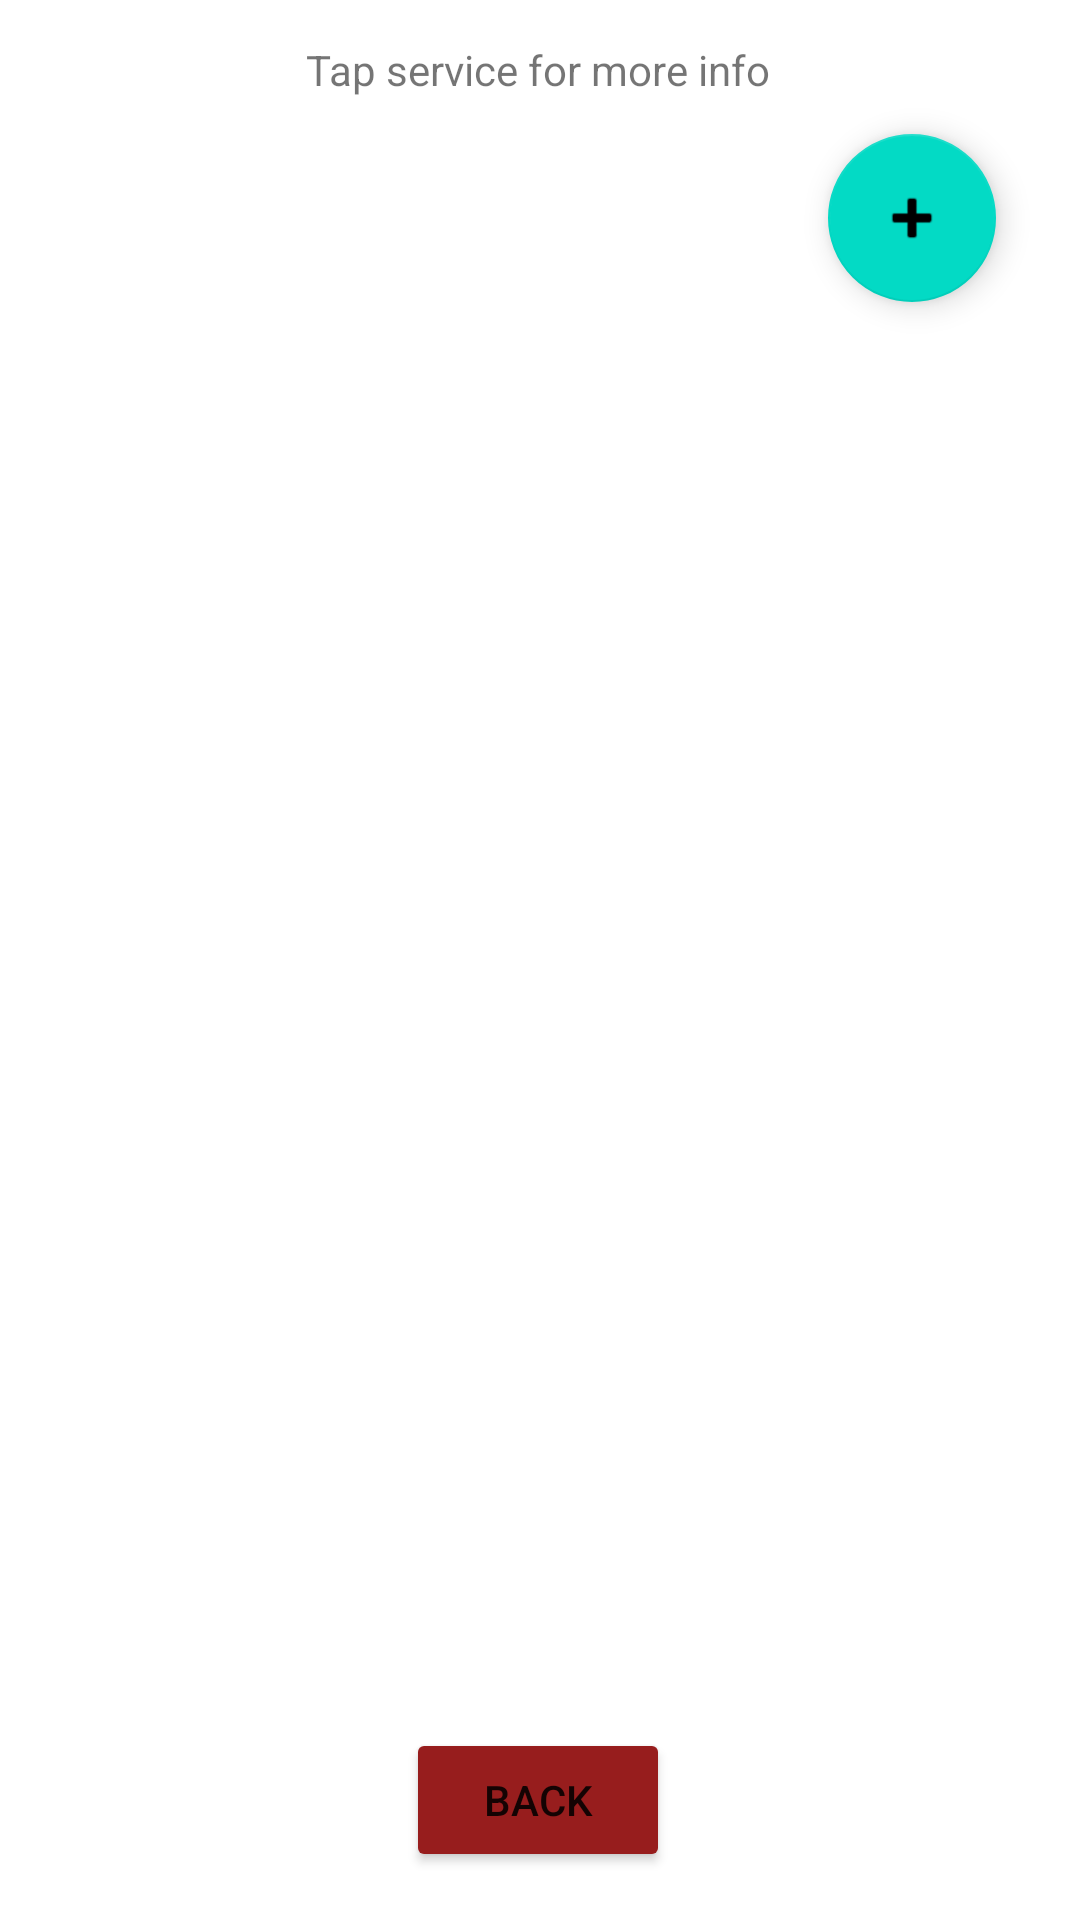

Screen size 1080w x 1920h. Icon name, then its center in pixels as [x,y]:
add: [912,218]
